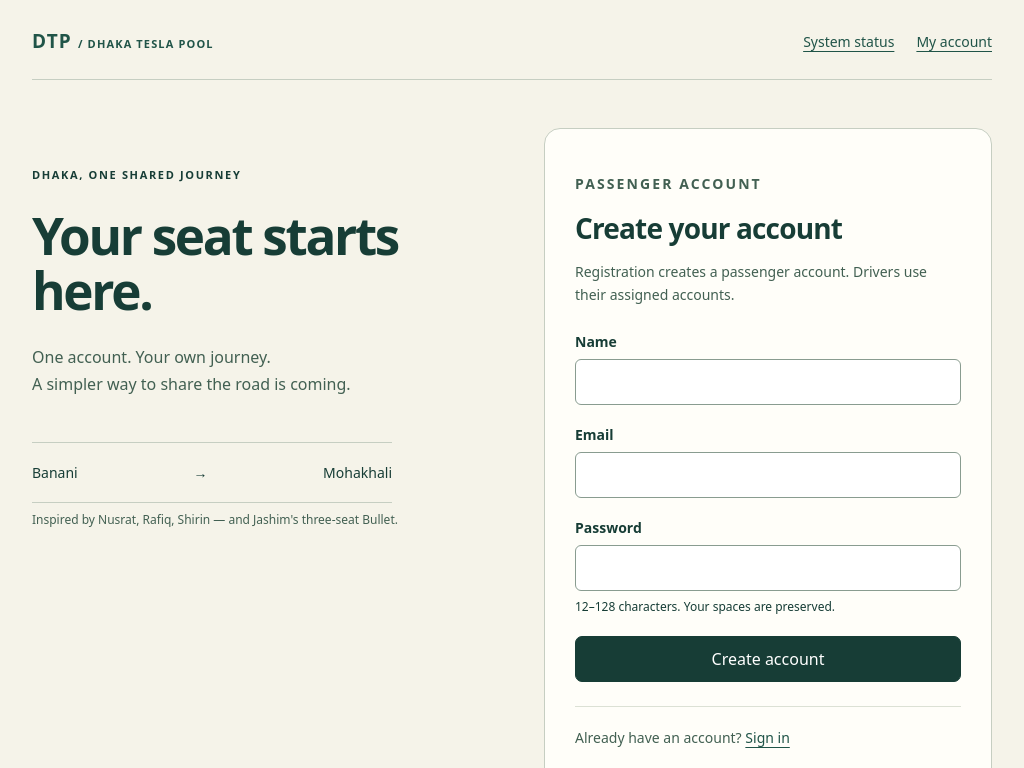
Scenario: authentication UI › validates registration fields before sending a request
Click the button "Create account". click: (768, 659)
box: x1=575 y1=636 x2=961 y2=682
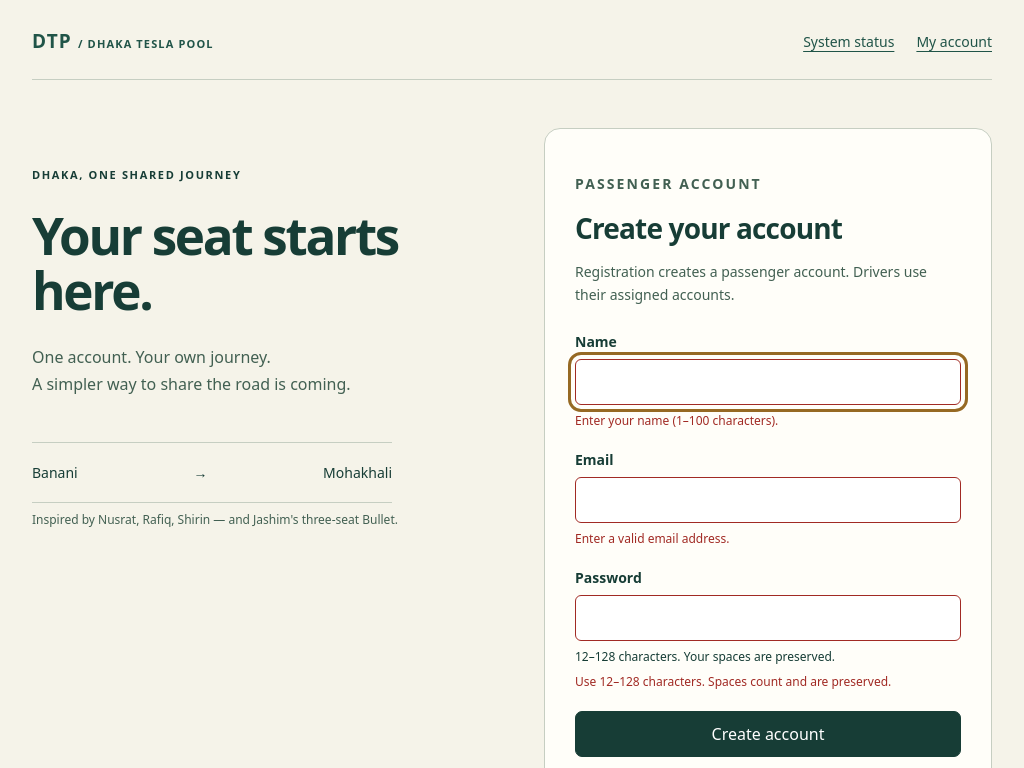
Result: the text "Enter a valid email address." is shown at x1=575 y1=530 x2=729 y2=547
Result: the text "Use 12–128 characters. Spaces count and are preserved." is shown at x1=575 y1=673 x2=891 y2=690
